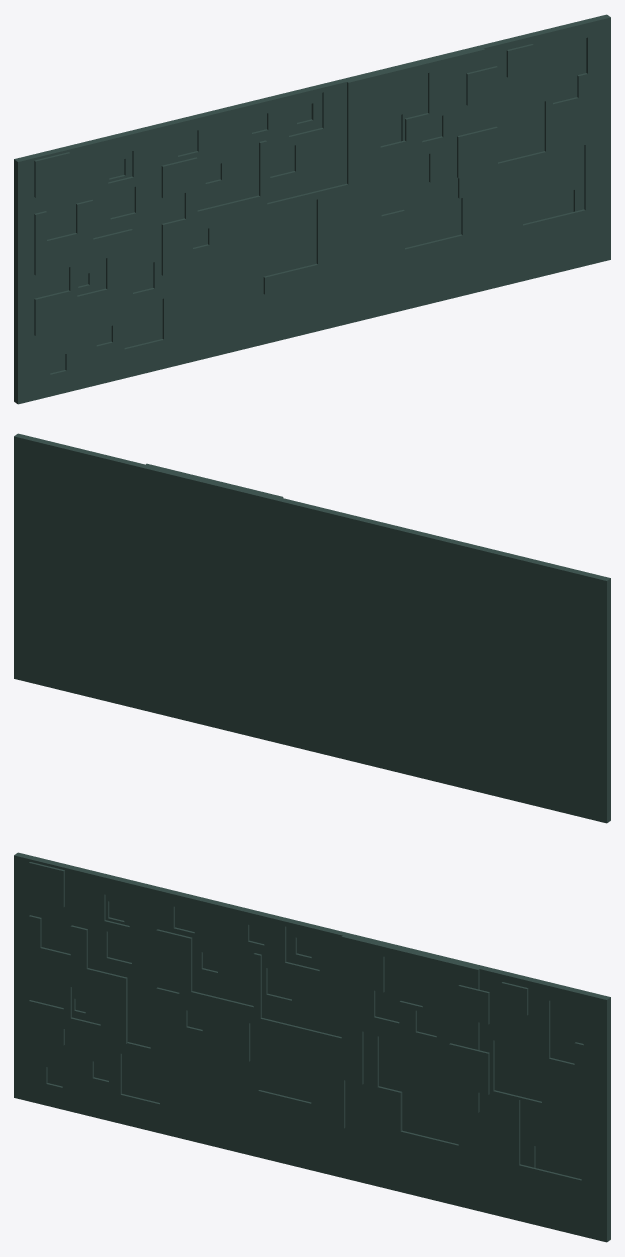
Rendered from wallback.obj.
3 views of the same model, one above another, from view 1: azimuth 30°, elevation 25°; view 2: azimuth 150°, elevation 25°; view 3: azimuth 330°, elevation 25° (orthographic).
Bounding box in the file's own units: 25.6 × 10 × 0.5.
1 material, 1 textured.
